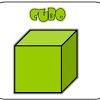cubos: (11, 27, 81, 95)
